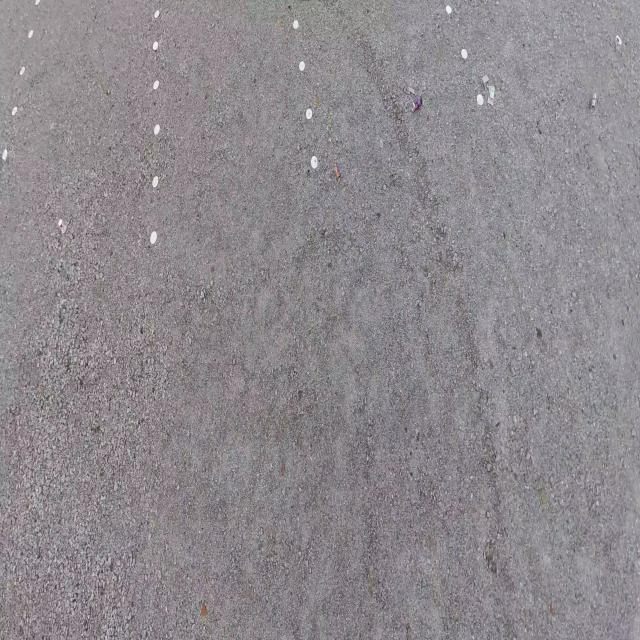rubbish: (409, 96, 423, 112), (486, 85, 495, 107), (58, 219, 68, 236), (590, 92, 597, 111), (334, 165, 341, 179), (481, 75, 489, 85), (379, 142, 384, 148)
